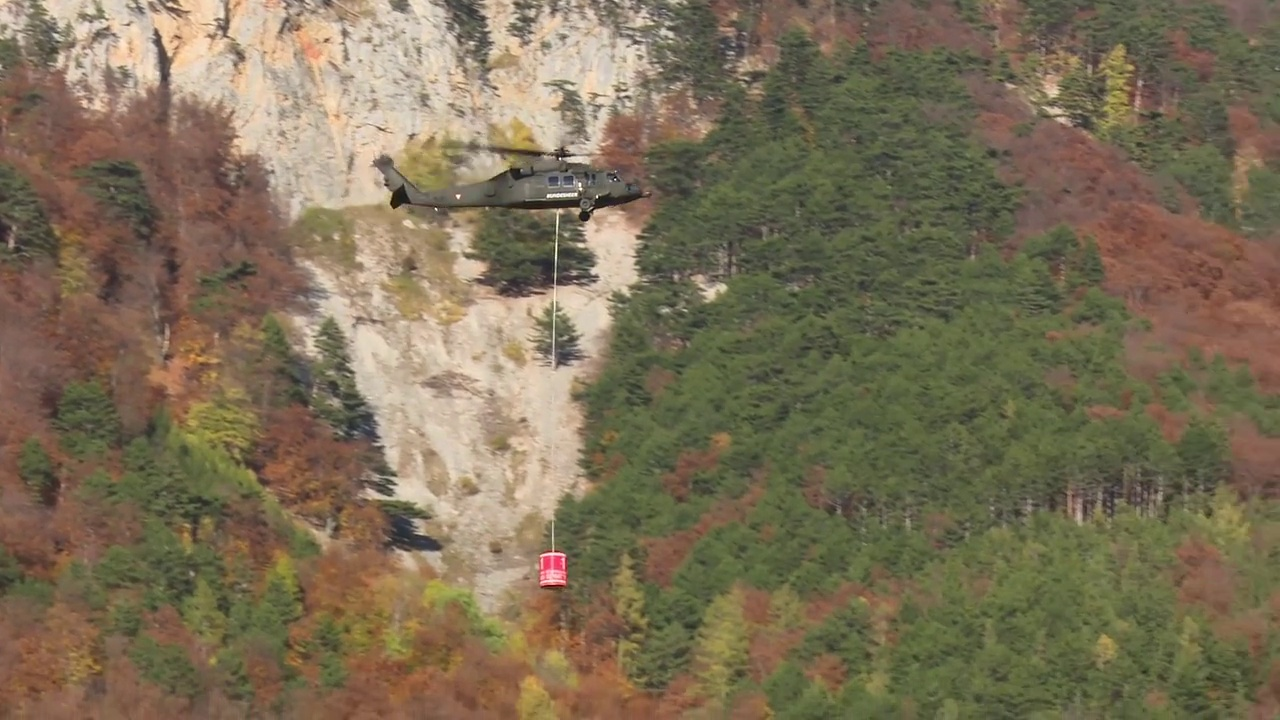heli: (382, 132, 653, 221)
